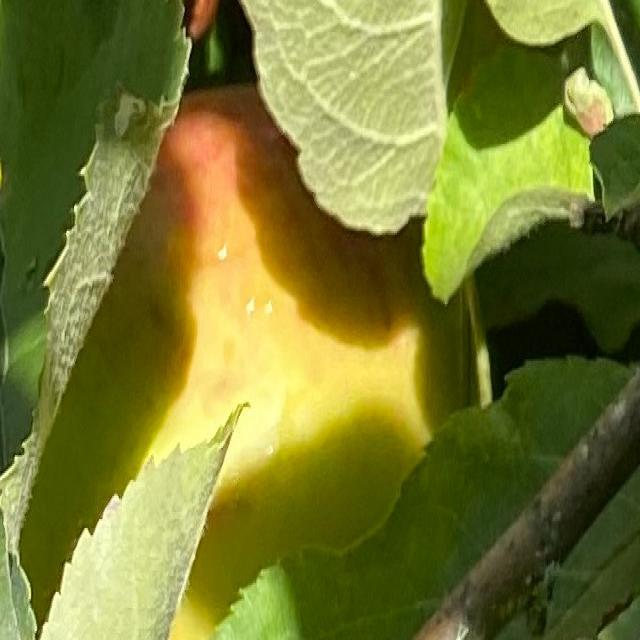Apples: (20, 91, 462, 638)
